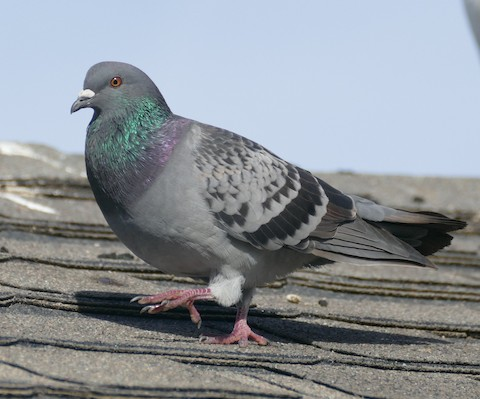pigeon: (69, 58, 469, 350)
